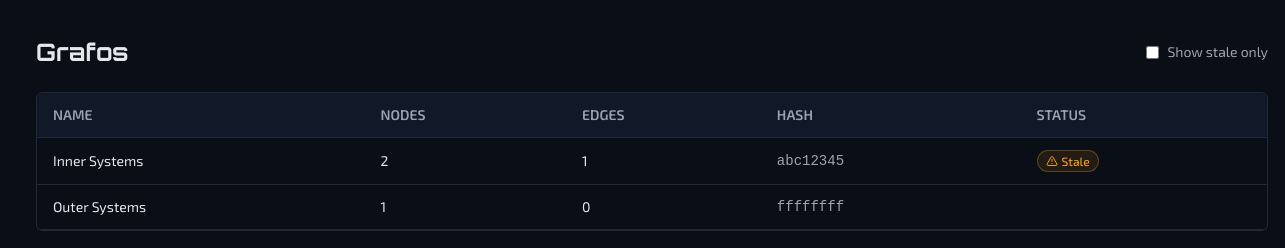
Test: GraphListPage › navigates to detail page when clicking a row
Expected: the heading "Grafos" is shown, top-left (36, 36), bottom-right (128, 68)
Click the text "Inner Systems" at (98, 160), box top-left (37, 138), bottom-right (364, 184)
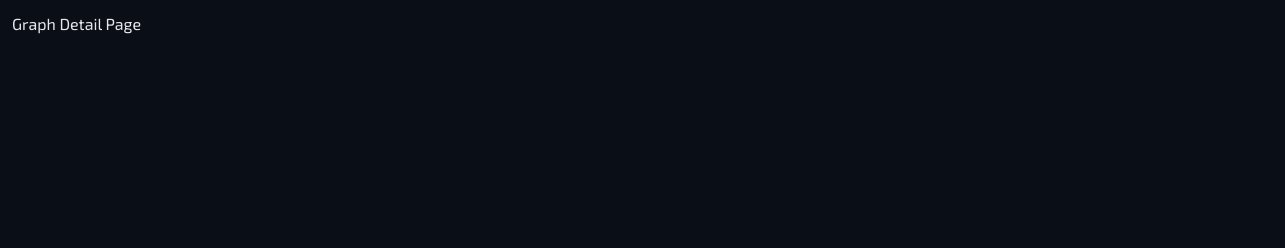
Expected: the text "Graph Detail Page" is shown, top-left (12, 14), bottom-right (141, 33)
